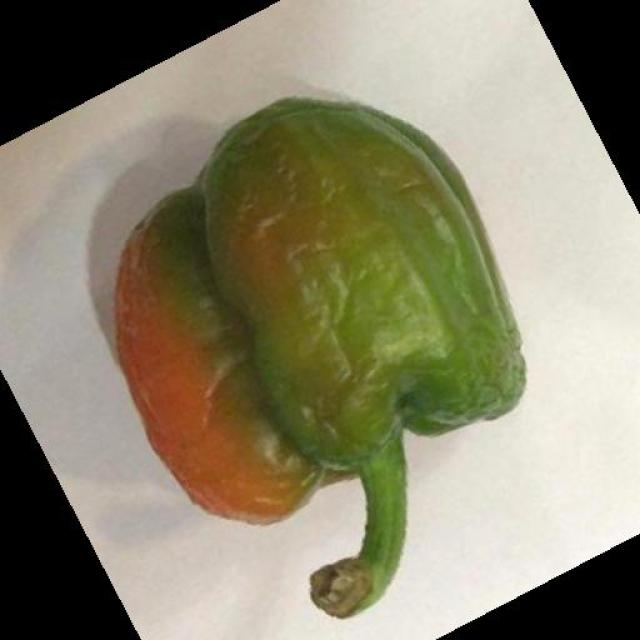Stale_Capsicum: (93, 111, 516, 504)
